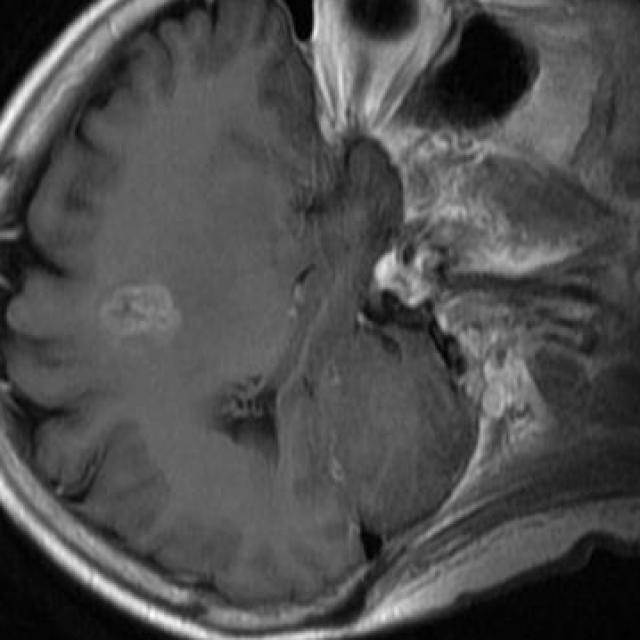glioma: (102, 283, 182, 337)
